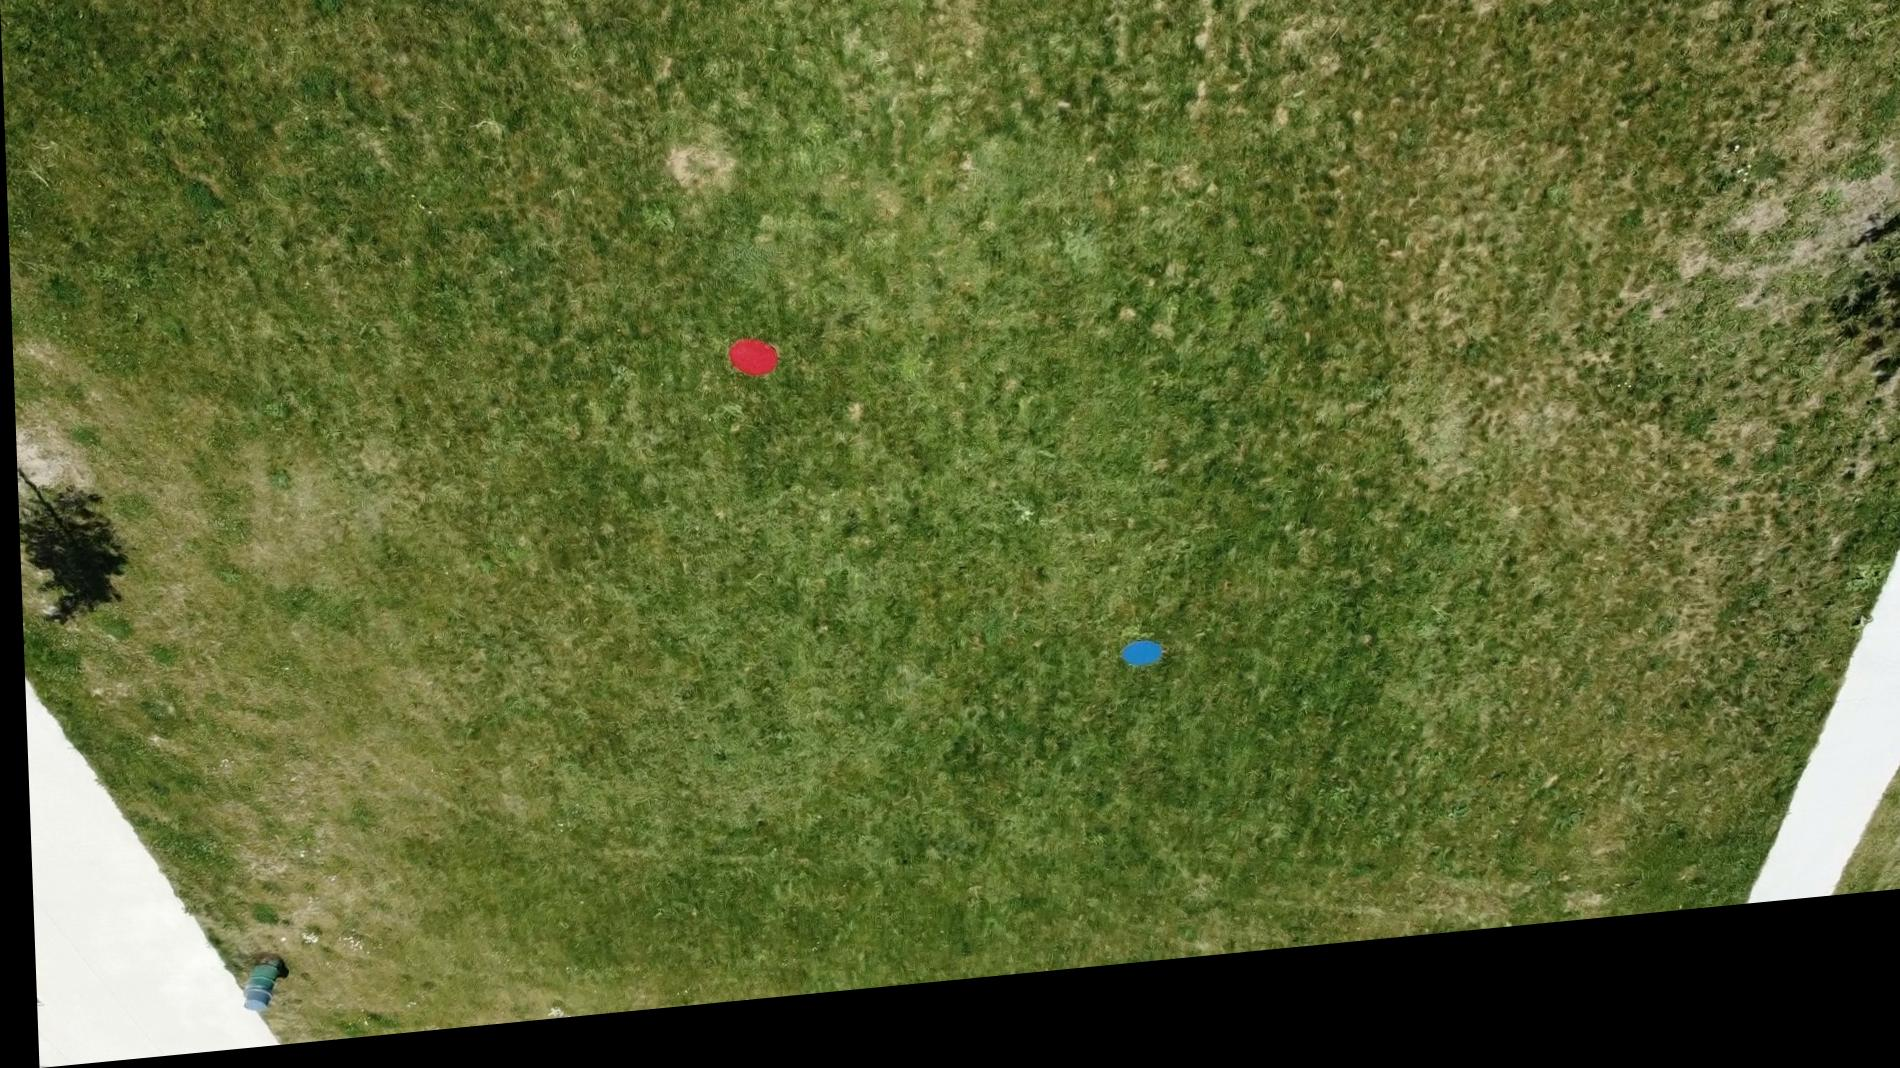Blue: (1114, 659, 1161, 692)
Red: (722, 347, 776, 394)
